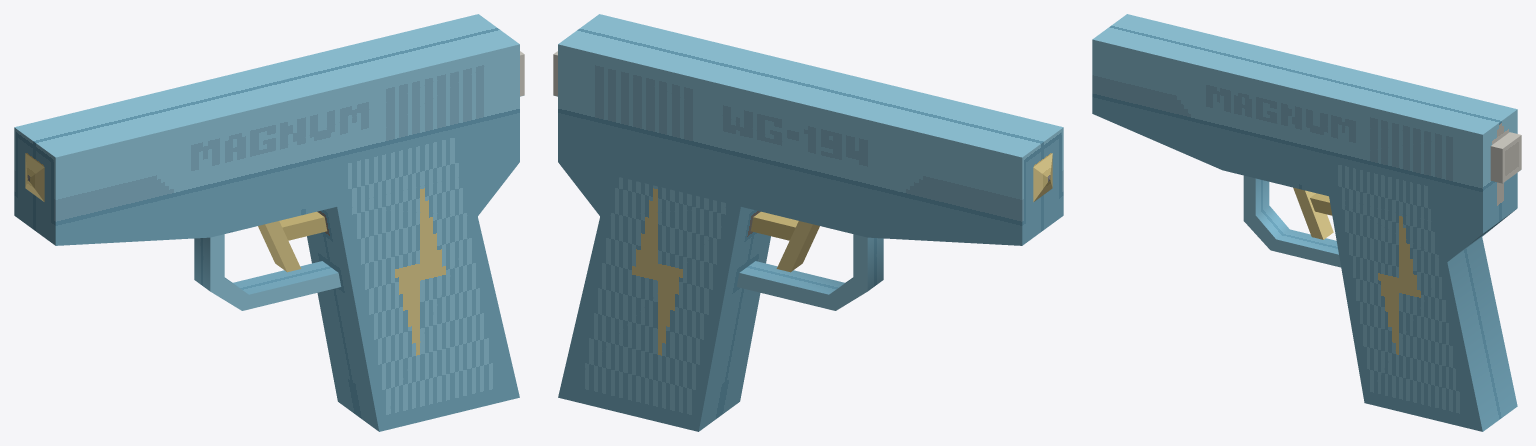
File: 0367_Water_Pistol.glb
3 renders of one model, left to right at view 1: azimuth 30°, elevation 25°; view 2: azimuth 150°, elevation 25°; view 3: azimuth 330°, elevation 25°, orthographic. The views are drawn at different scales.
Parts seen in each view (by area): view 1: part_0; view 2: part_0; view 3: part_0.
Boxes of the visible parts, bbox=[...] form: part_0: bbox=[14, 14, 524, 431]; part_0: bbox=[553, 14, 1063, 431]; part_0: bbox=[1092, 14, 1521, 431].
Size of the model in its own units: 0.1725 by 0.12 by 0.0255.
1 material, 1 textured.
